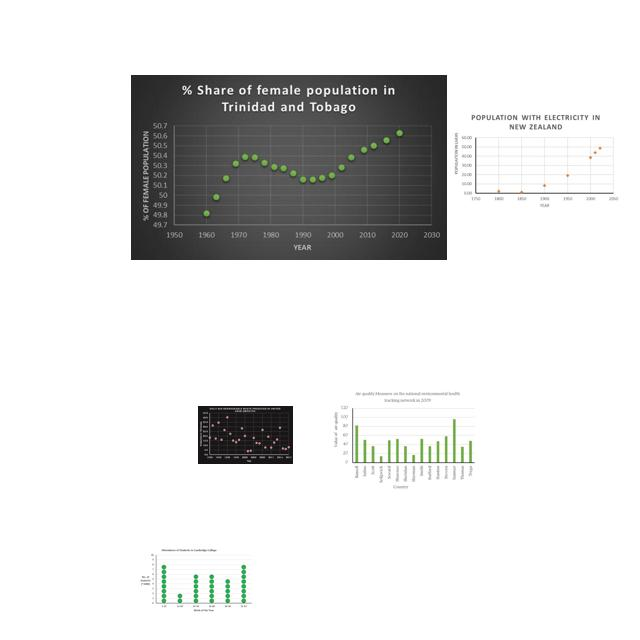Graph: (131, 75, 447, 260), (450, 110, 622, 213), (331, 388, 477, 493), (138, 547, 254, 614), (198, 406, 293, 464)
